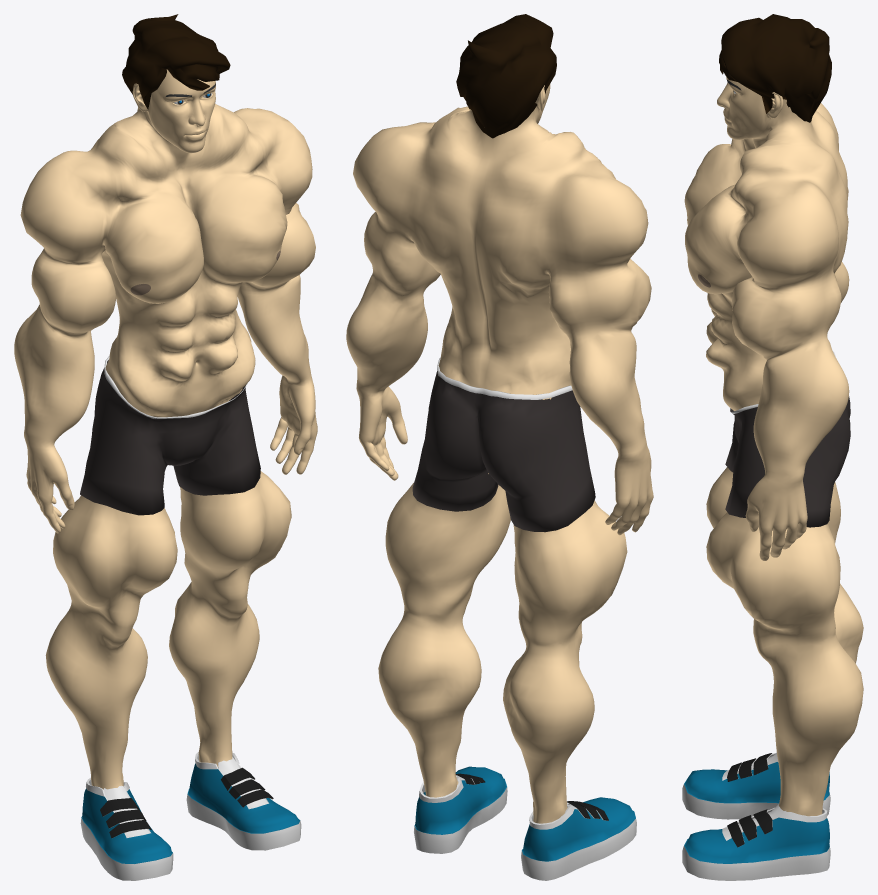
The model's file is newMan.fbx.
The picture shows the model from 3 angles, left to right: view 1: azimuth 30°, elevation 25°; view 2: azimuth 150°, elevation 25°; view 3: azimuth 270°, elevation 25°; orthographic projection.
Visible parts, largest first — view 1: body.004; view 2: body.004; view 3: body.004.
Boxes of the visible parts, bbox=[...] form: body.004: bbox=[14, 14, 317, 880]; body.004: bbox=[346, 14, 653, 880]; body.004: bbox=[682, 14, 863, 880].
Bounding box in the file's own units: 295 × 812 × 164.
